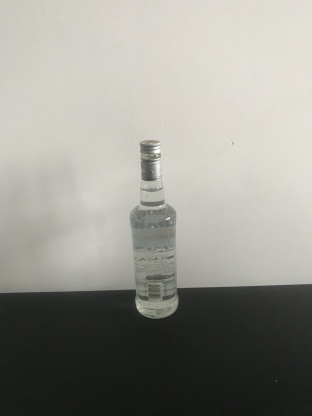nakretka: (138, 138, 162, 182)
